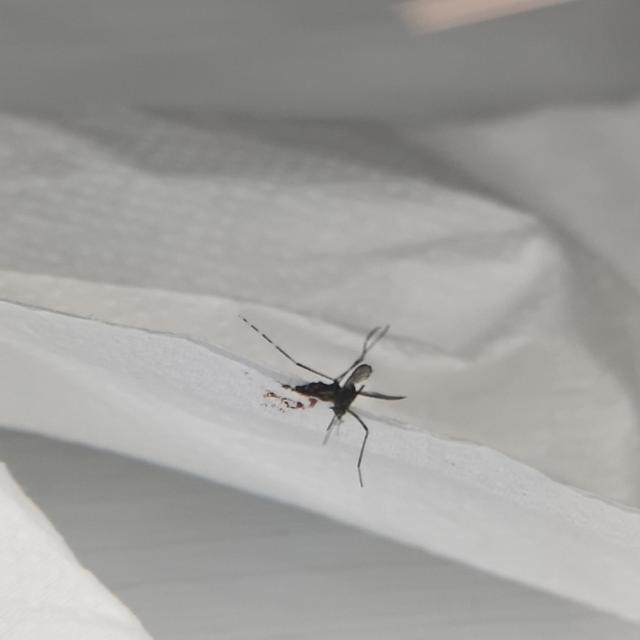albopictus: (235, 306, 418, 489)
